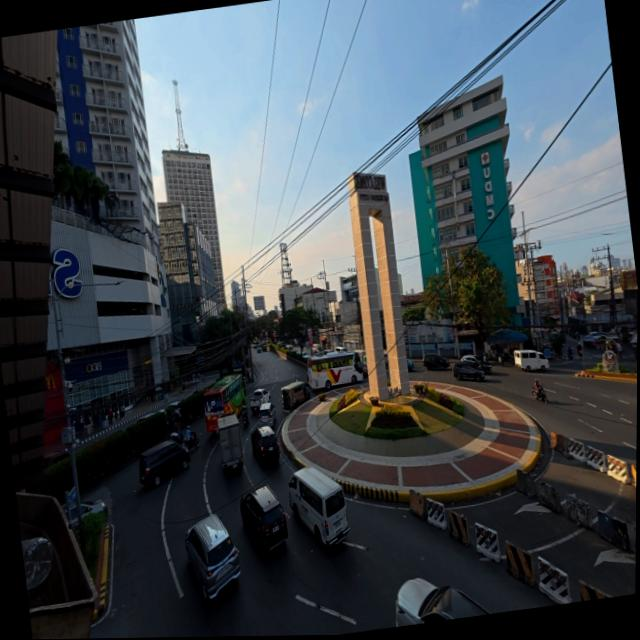Jeepneys: (280, 381, 309, 412)
bus: (203, 374, 245, 433), (306, 352, 362, 389)
car: (185, 515, 239, 599), (395, 579, 487, 626), (239, 485, 287, 553), (138, 440, 190, 487), (251, 426, 279, 465), (452, 361, 483, 381), (461, 355, 491, 373), (422, 354, 449, 371), (258, 402, 275, 428), (43, 451, 68, 468), (135, 410, 164, 424), (61, 504, 77, 527), (165, 401, 180, 420), (495, 350, 513, 365), (587, 332, 601, 340), (361, 363, 367, 378), (406, 360, 413, 372), (276, 340, 284, 347), (383, 355, 387, 368), (301, 351, 307, 358), (255, 346, 259, 352)
motorcycle: (184, 432, 199, 450), (532, 387, 547, 403), (170, 429, 183, 444), (241, 411, 248, 427), (577, 344, 582, 357), (567, 348, 572, 361)
trucks: (217, 415, 243, 471), (248, 389, 269, 414)
vans: (288, 467, 348, 545), (513, 350, 548, 371)
